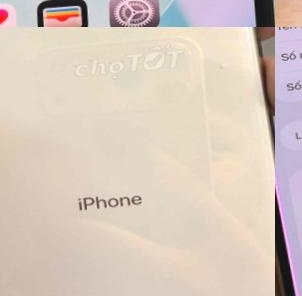screen_defect: (275, 27, 302, 296)
